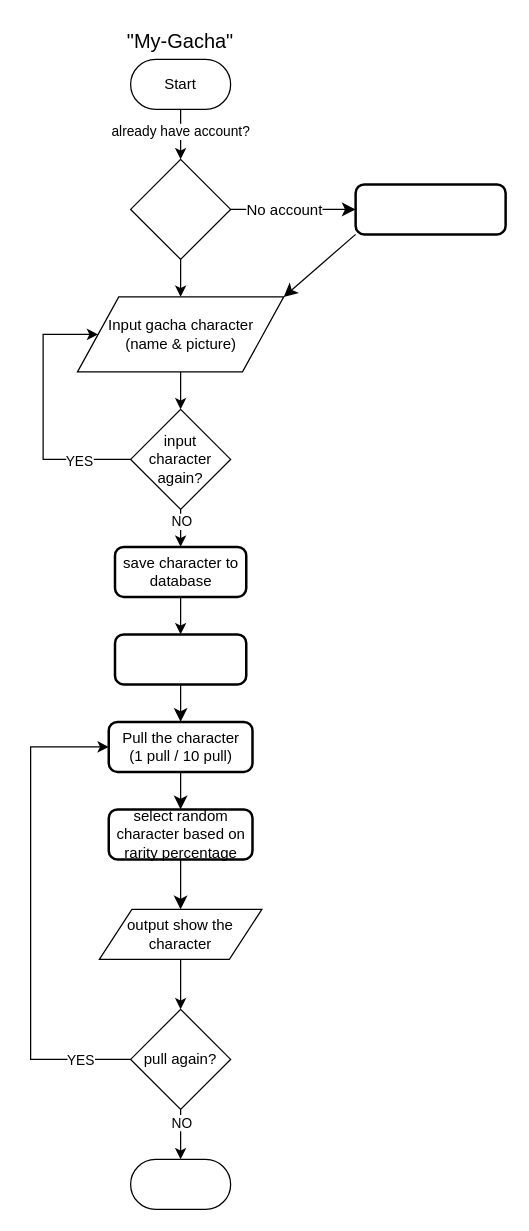
Some shapes in this 529 by 1231 pixel diagram are drawn without their labels. Here are the shapes that lost their labels. From the top down, the box of each, then its label:
(129, 158, 231, 259): Login
(354, 182, 506, 235): register
(113, 632, 247, 685): choose the rarity
(129, 1158, 231, 1209): End
